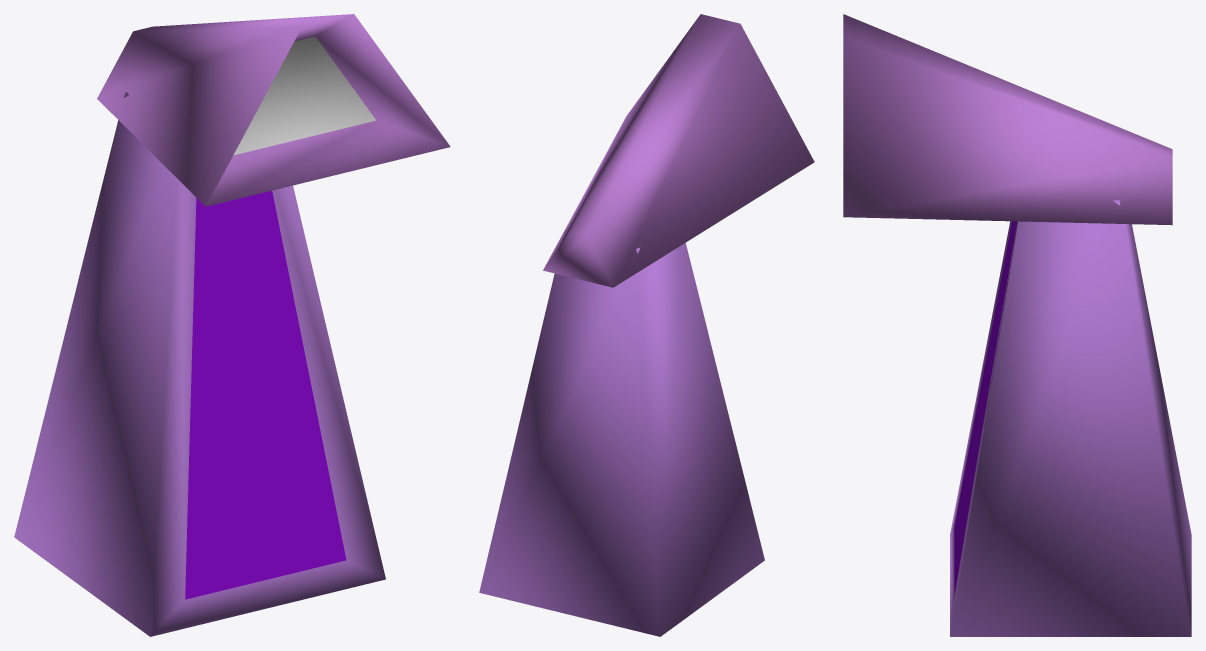
File: pushing_cannon.fbx
The picture shows the model from 3 angles, left to right: view 1: azimuth 30°, elevation 25°; view 2: azimuth 150°, elevation 25°; view 3: azimuth 270°, elevation 25°; orthographic projection. The views are drawn at different scales.
Parts seen in each view (by area): view 1: pushing_cannon, cannon; view 2: pushing_cannon, cannon; view 3: pushing_cannon, cannon.
Part boxes in pixels (x1=…): pushing_cannon: x1=14, y1=92, x2=385, y2=636; cannon: x1=97, y1=14, x2=450, y2=206; pushing_cannon: x1=479, y1=230, x2=764, y2=636; cannon: x1=543, y1=14, x2=814, y2=287; pushing_cannon: x1=950, y1=200, x2=1191, y2=636; cannon: x1=843, y1=14, x2=1172, y2=225.
Bounding box in the file's own units: 0.1569 × 0.3866 × 0.2176.
